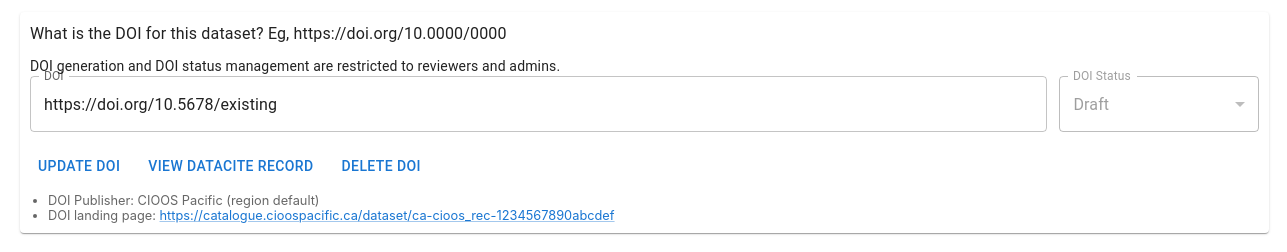
Test: DOIInput › Update DOI button disabled during concurrent operations › should disable Update DOI while generate/auto-update is in progress
Click the button "Update DOI" at (79, 166), box [30,148,128,184]
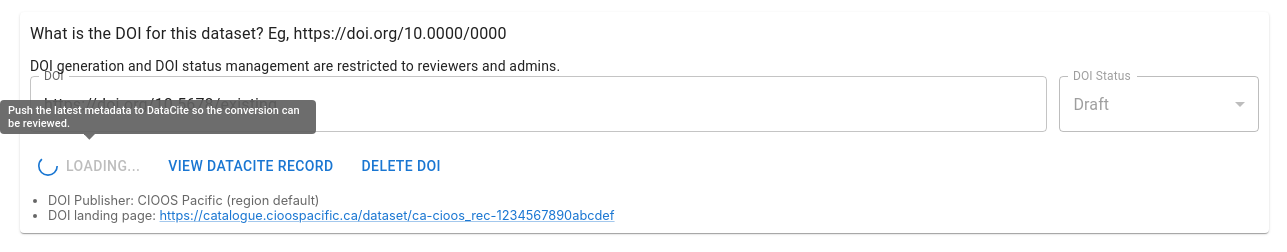
Now the button named "update doi" is disabled, box [30,148,148,184]
